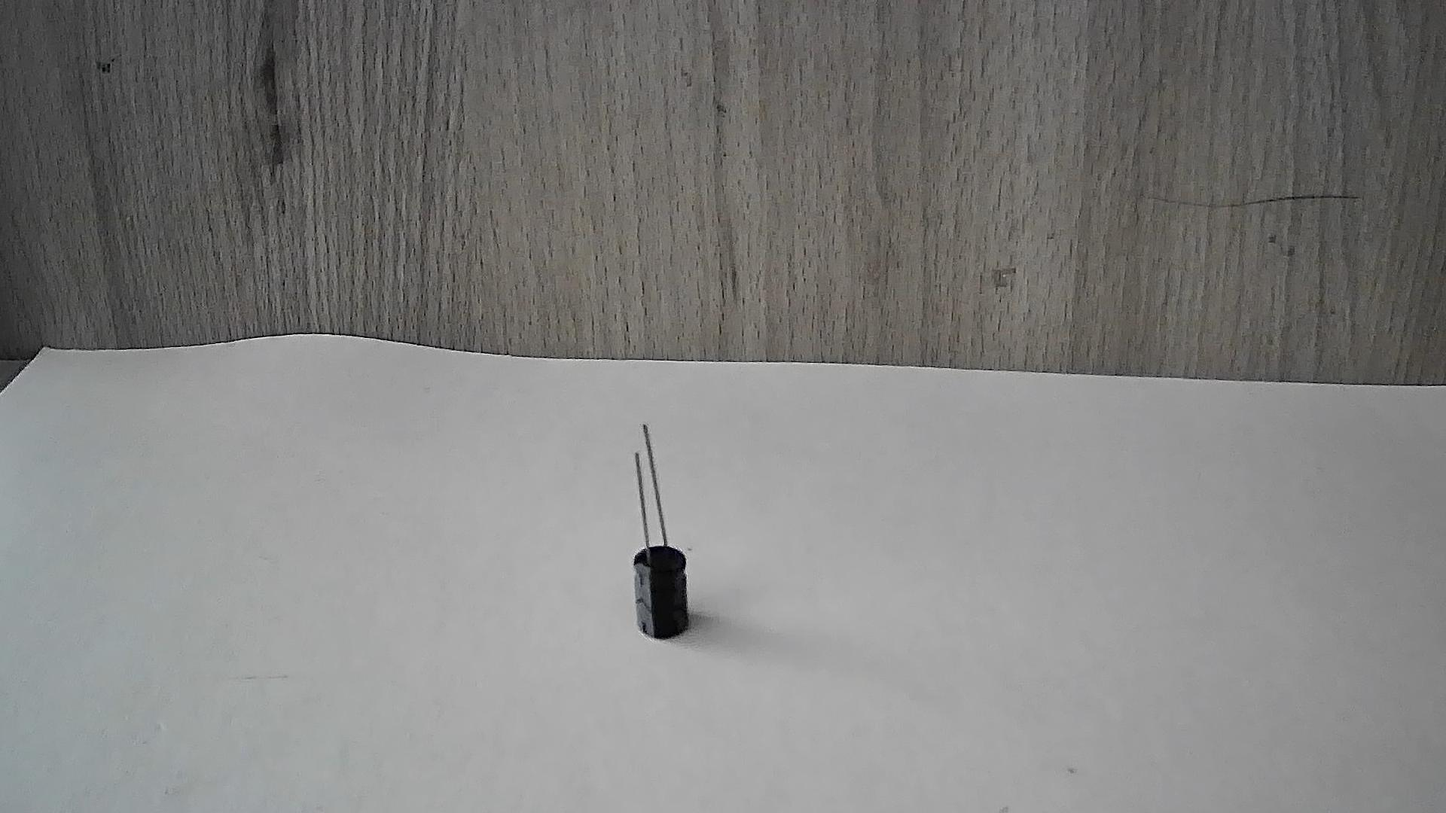Capacitor: (598, 486, 735, 656)
